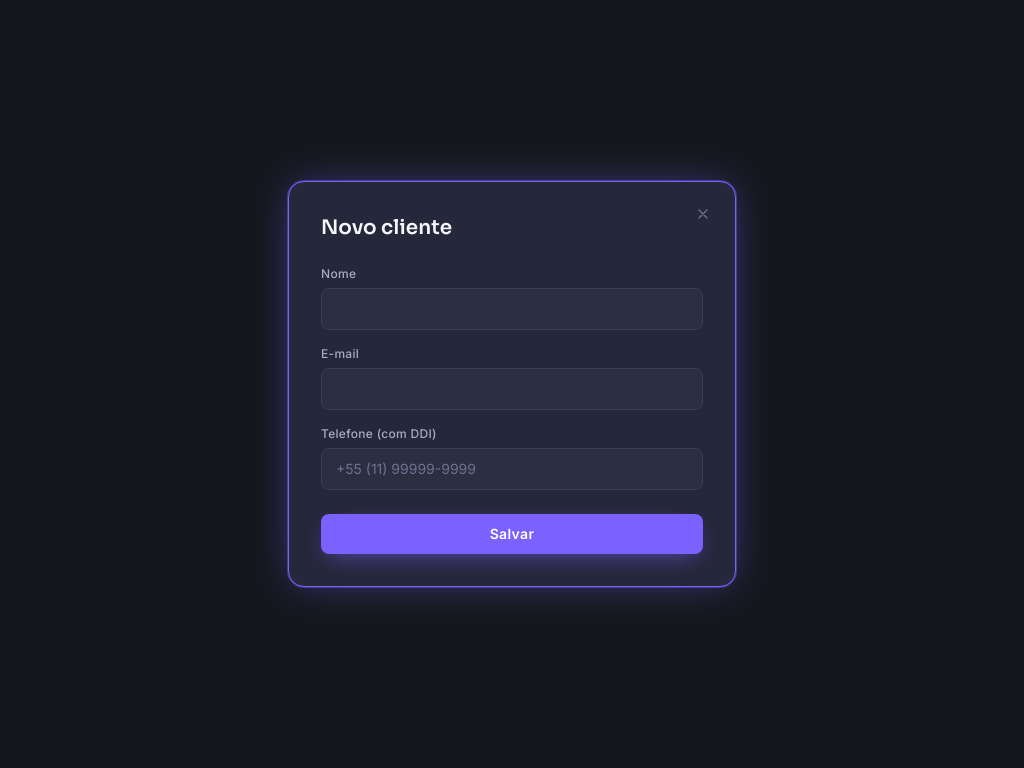
it: ClientModal › exibe mensagem de erro se o envio falhar
In the field labelled "Nome": {"x": 512, "y": 309} [321,288,703,330], type "Maria"
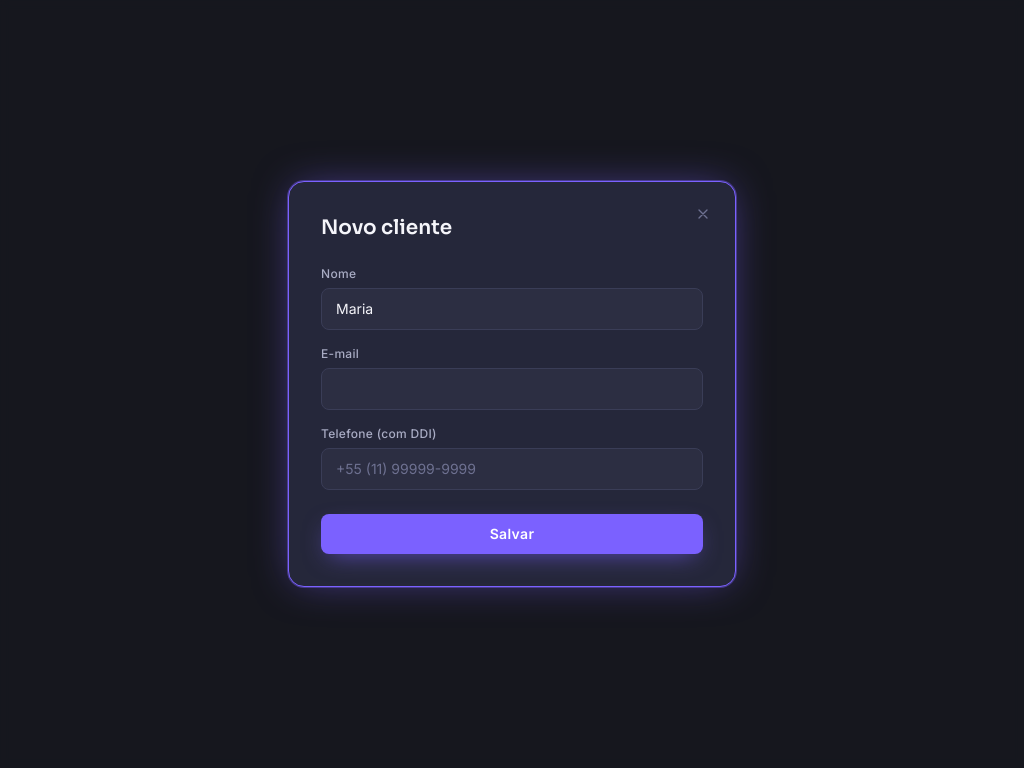
Click the button "Salvar": {"x": 512, "y": 534} [321,514,703,554]
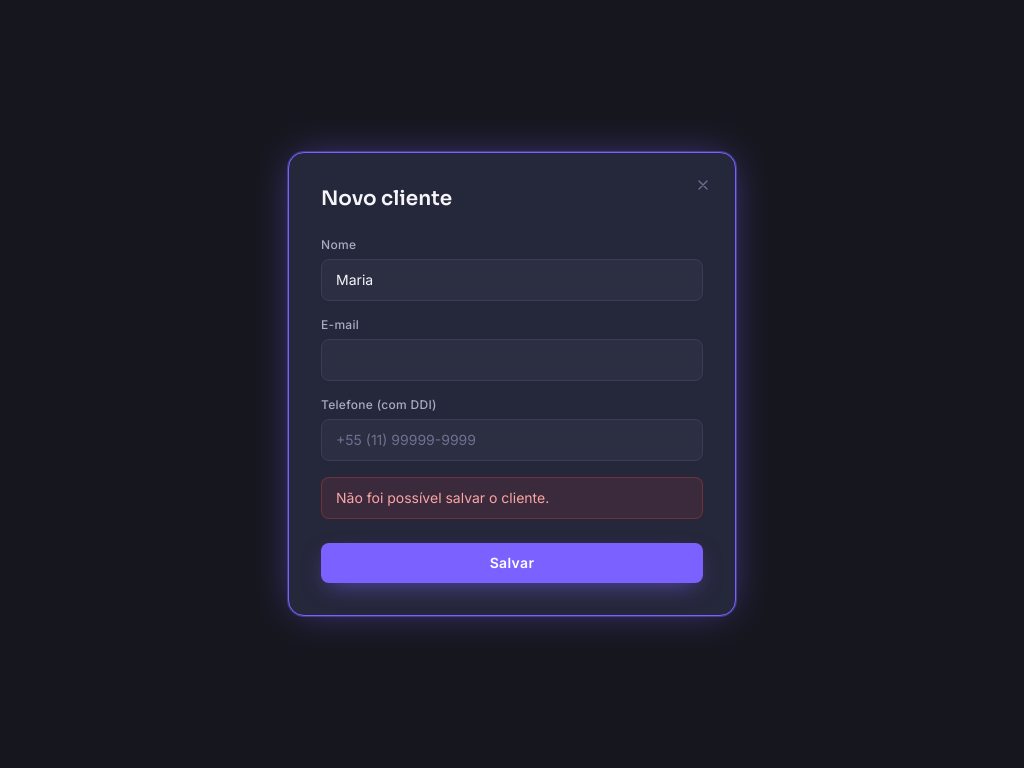
Expected: the text "Não foi possível salvar o cliente." is shown, [321,477,703,519]
